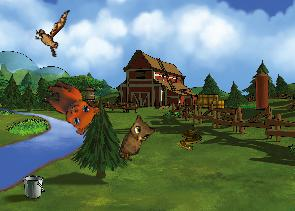bear: (34, 76, 104, 138)
eagle: (34, 10, 70, 57)
owl: (117, 113, 158, 166)
